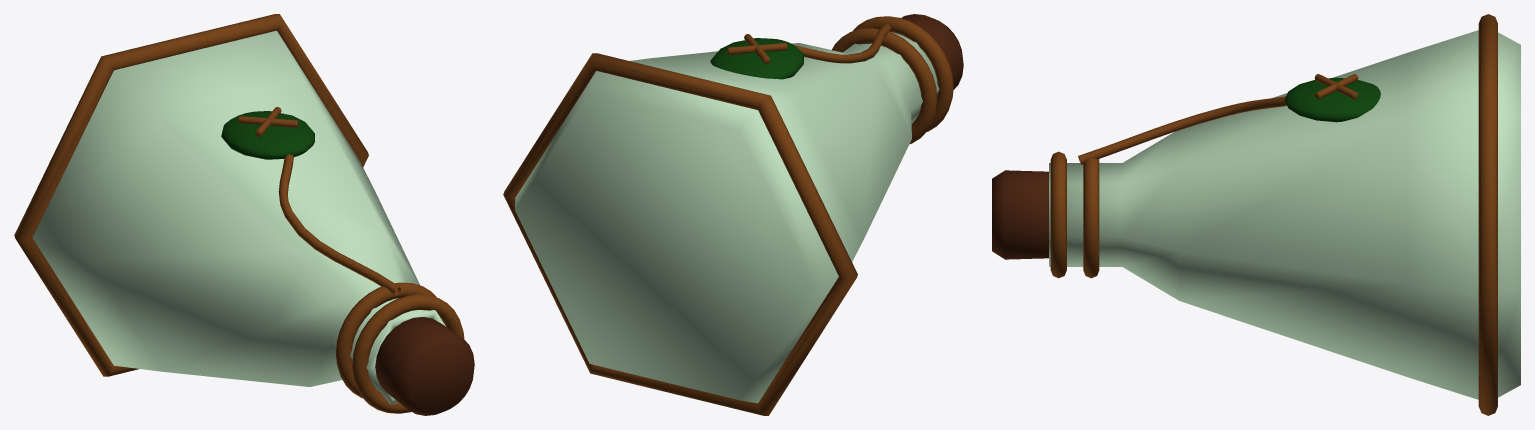
The model's file is Potion_Green.obj.
The picture shows the model from 3 angles, left to right: view 1: azimuth 30°, elevation 25°; view 2: azimuth 150°, elevation 25°; view 3: azimuth 270°, elevation 25°; orthographic projection.
Parts seen in each view (by area): view 1: Thick_Walled_Green_Bottle, Base_Metal_Trim, Cork_Stopper, Neck_Brass_Ring.001, Wax_Seal, Neck_Brass_Ring, Seal_Cord, Seal_Rune.001; view 2: Thick_Walled_Green_Bottle, Base_Metal_Trim, Neck_Brass_Ring, Wax_Seal, Neck_Brass_Ring.001, Cork_Stopper, Seal_Cord, Seal_Rune; view 3: Thick_Walled_Green_Bottle, Base_Metal_Trim, Cork_Stopper, Wax_Seal, Seal_Cord, Neck_Brass_Ring.001, Neck_Brass_Ring.
Boxes of the visible parts, x1,y1,x2,y2 form: Thick_Walled_Green_Bottle: [32, 30, 445, 404]; Base_Metal_Trim: [14, 14, 368, 376]; Cork_Stopper: [375, 317, 474, 415]; Neck_Brass_Ring.001: [352, 294, 464, 413]; Wax_Seal: [221, 111, 314, 159]; Neck_Brass_Ring: [335, 282, 436, 398]; Seal_Cord: [278, 154, 400, 294]; Seal_Rune.001: [238, 116, 298, 127]; Thick_Walled_Green_Bottle: [515, 32, 939, 403]; Base_Metal_Trim: [503, 53, 857, 415]; Neck_Brass_Ring: [832, 28, 937, 143]; Wax_Seal: [710, 38, 803, 79]; Neck_Brass_Ring.001: [853, 16, 953, 131]; Cork_Stopper: [901, 14, 963, 89]; Seal_Cord: [795, 24, 891, 63]; Seal_Rune: [727, 43, 787, 54]; Thick_Walled_Green_Bottle: [1049, 30, 1520, 399]; Base_Metal_Trim: [1478, 14, 1497, 415]; Cork_Stopper: [992, 170, 1048, 259]; Wax_Seal: [1284, 77, 1380, 122]; Seal_Cord: [1078, 96, 1286, 164]; Neck_Brass_Ring.001: [1050, 151, 1066, 278]; Neck_Brass_Ring: [1083, 158, 1099, 278].
Size of the model in its own units: 0.248 by 0.2148 by 0.325.
